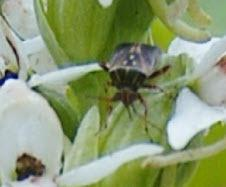plant_bugs: (84, 26, 183, 144)
